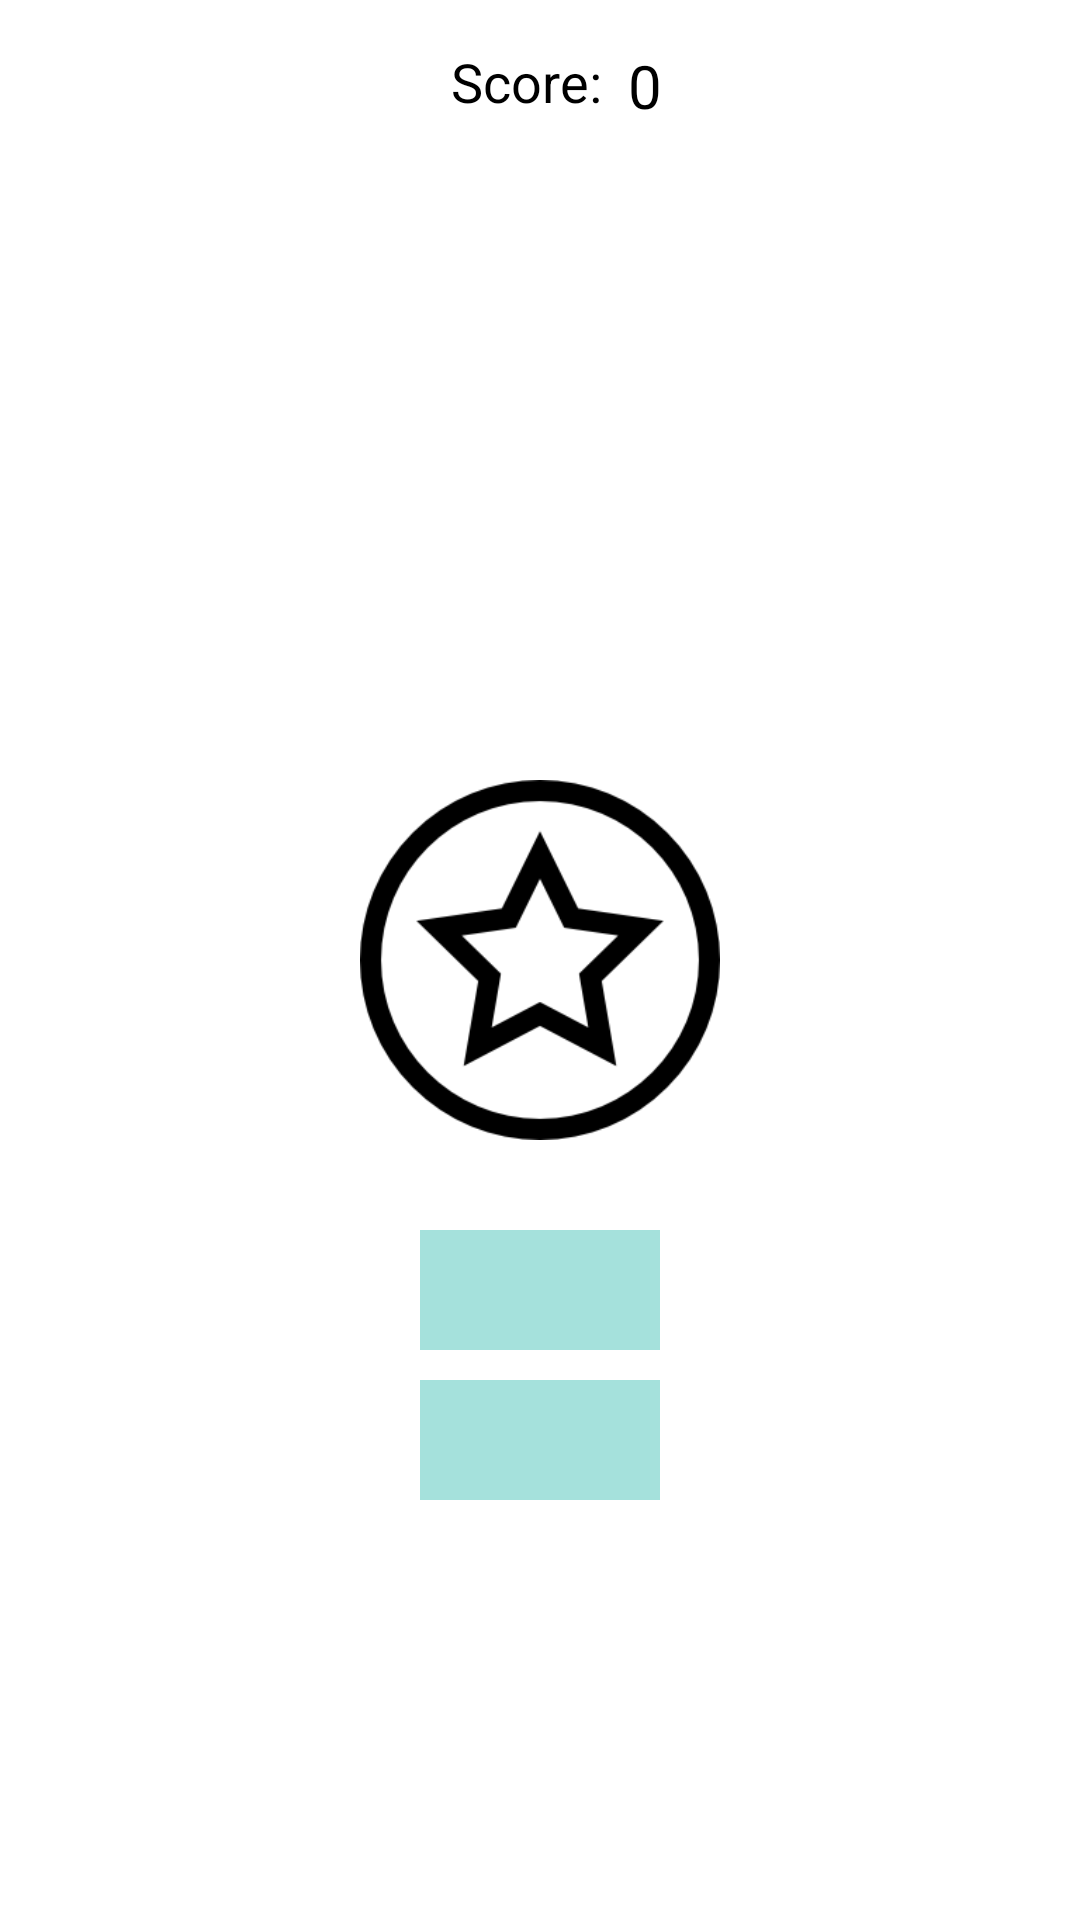

Screen size 1080w x 1920h. Icon name, then its box in pixels as (x1, y1, x2, y2):
star: (360, 780, 720, 1140)
